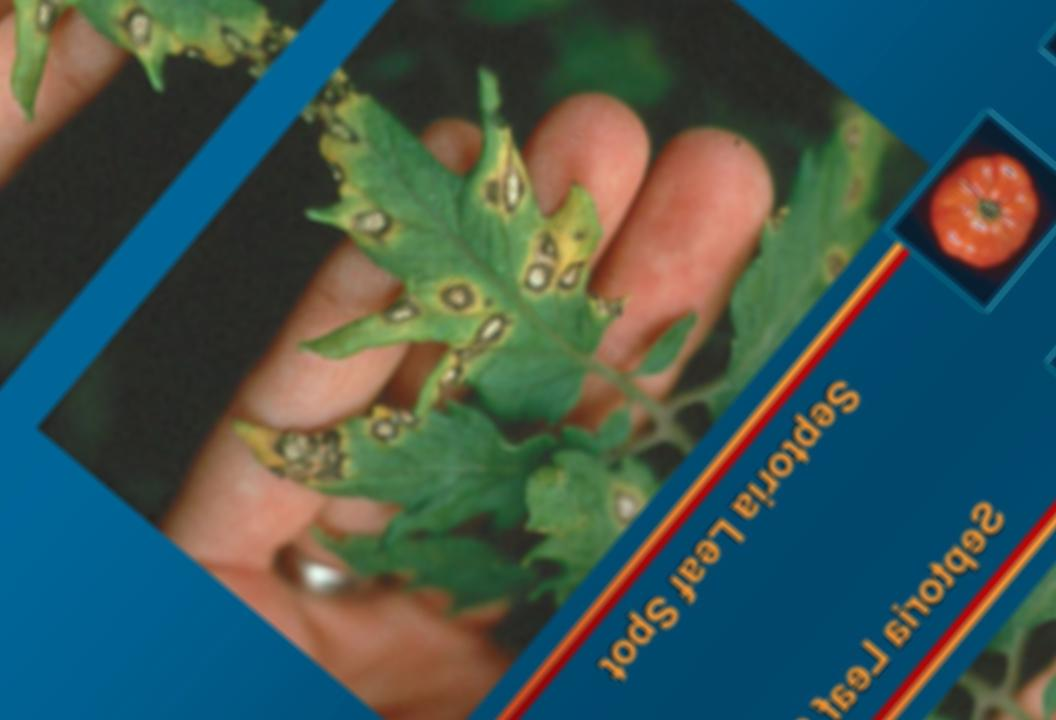Tomato Septoria leaf spot: (205, 0, 700, 481), (214, 286, 569, 630), (602, 92, 924, 443)
